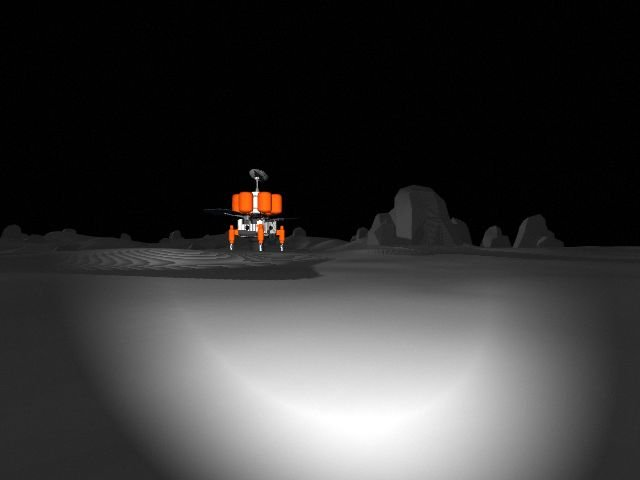homebase: (199, 166, 304, 254)
